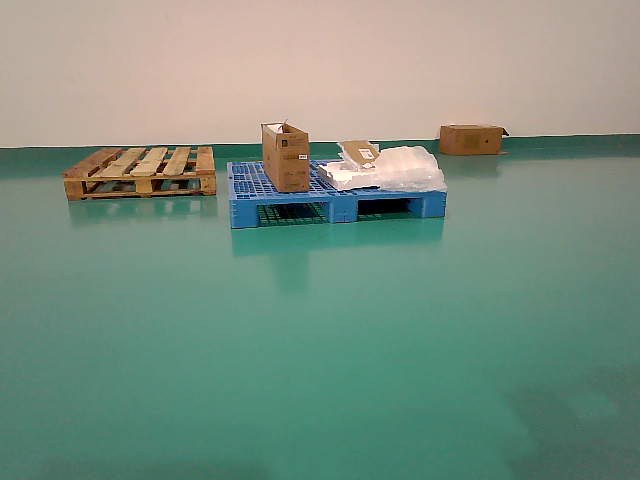block: (228, 198, 259, 228), (420, 189, 449, 218), (329, 196, 357, 222)
front: (230, 193, 450, 227)
hole pallet: (258, 203, 330, 228), (357, 201, 423, 220)
